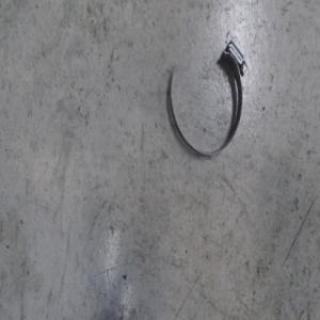AdjustableClamptrack_idkeyframe: (167, 35, 247, 161)
